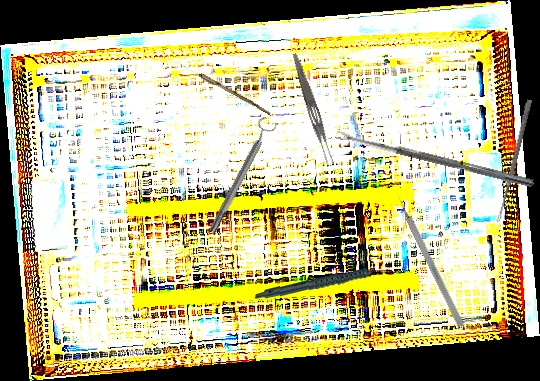Dressing Forceps: (287, 52, 337, 166)
Fixation Ring: (201, 115, 280, 237)
Handpiece: (254, 263, 393, 304)
Hook Surgical: (393, 191, 465, 328)
Surgical Spoon: (334, 129, 536, 188), (174, 59, 272, 116), (495, 99, 533, 223)
